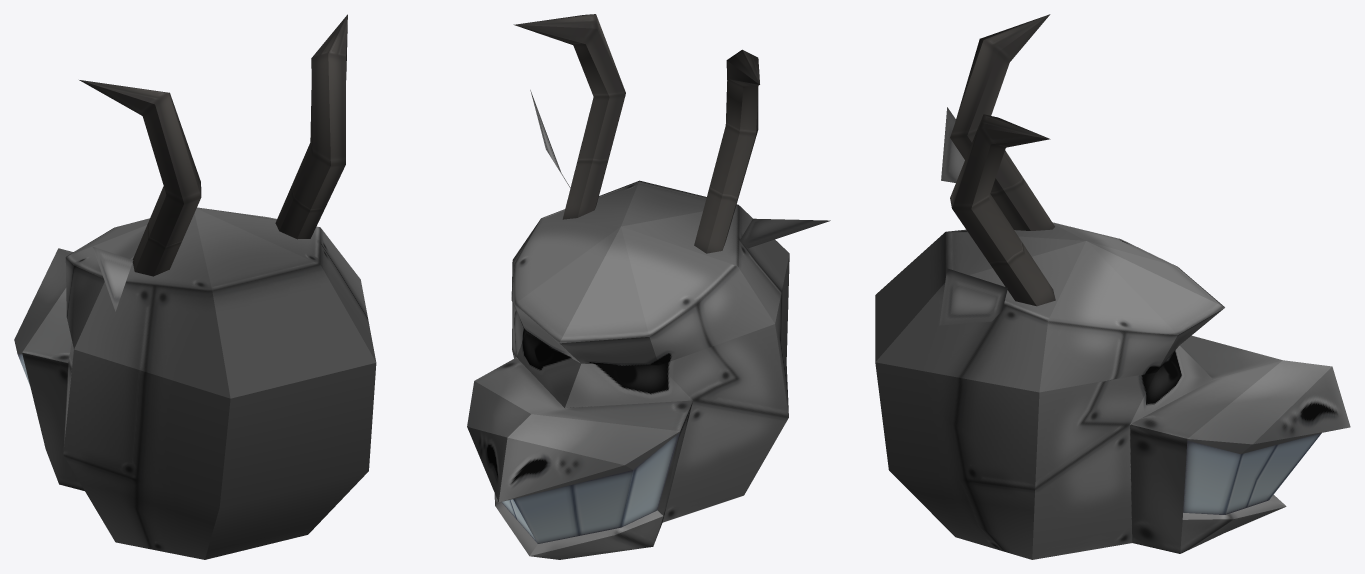
The model's file is gazetteer.glb.
3 views of the same model, side by side, from view 1: azimuth 30°, elevation 25°; view 2: azimuth 150°, elevation 25°; view 3: azimuth 270°, elevation 25° (orthographic). The views are drawn at different scales.
Parts seen in each view (by area): view 1: gazetteer; view 2: gazetteer; view 3: gazetteer.
Boxes of the visible parts, x1=… form: gazetteer: x1=14, y1=14, x2=376, y2=559; gazetteer: x1=467, y1=14, x2=830, y2=559; gazetteer: x1=875, y1=14, x2=1350, y2=559.
Bounding box in the file's own units: 2.1 × 2.79 × 2.62.
1 material, 1 textured.
